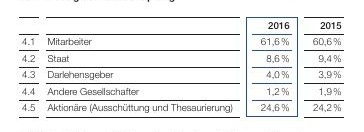table: (0, 0, 364, 132)
